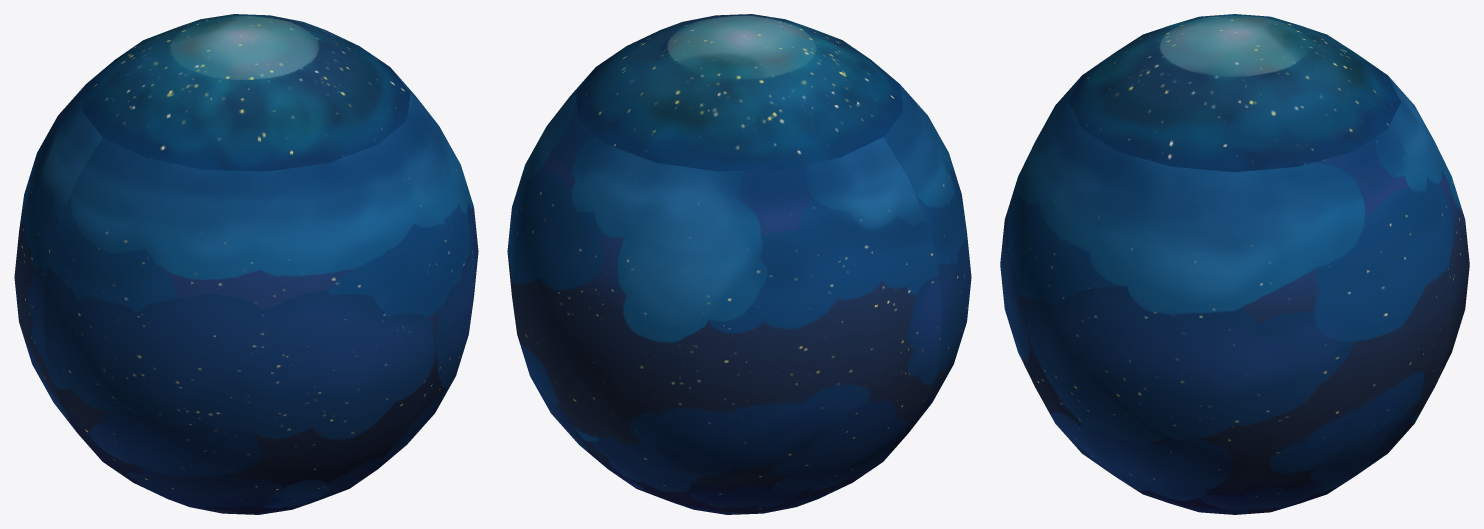
File: SM_Stylize_BALL.fbx
The picture shows the model from 3 angles, left to right: view 1: azimuth 30°, elevation 25°; view 2: azimuth 150°, elevation 25°; view 3: azimuth 270°, elevation 25°; orthographic projection.
Visible parts, largest first — view 1: pSphere10; view 2: pSphere10; view 3: pSphere10.
Part boxes in pixels (bbox=[...]): pSphere10: bbox=[14, 14, 478, 514]; pSphere10: bbox=[507, 14, 971, 514]; pSphere10: bbox=[1000, 14, 1469, 514].
Size of the model in its own units: 1.82 by 1.97 by 1.82.
1 material, 1 textured.
